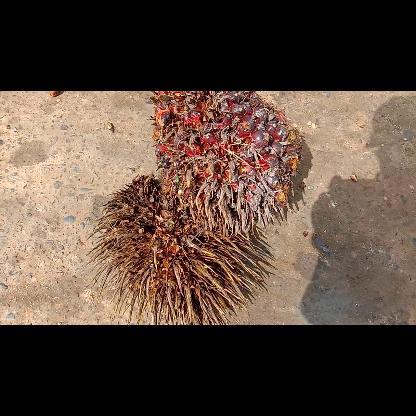Janjang kosong: (86, 174, 262, 324)
TBS masak: (147, 91, 302, 237)
